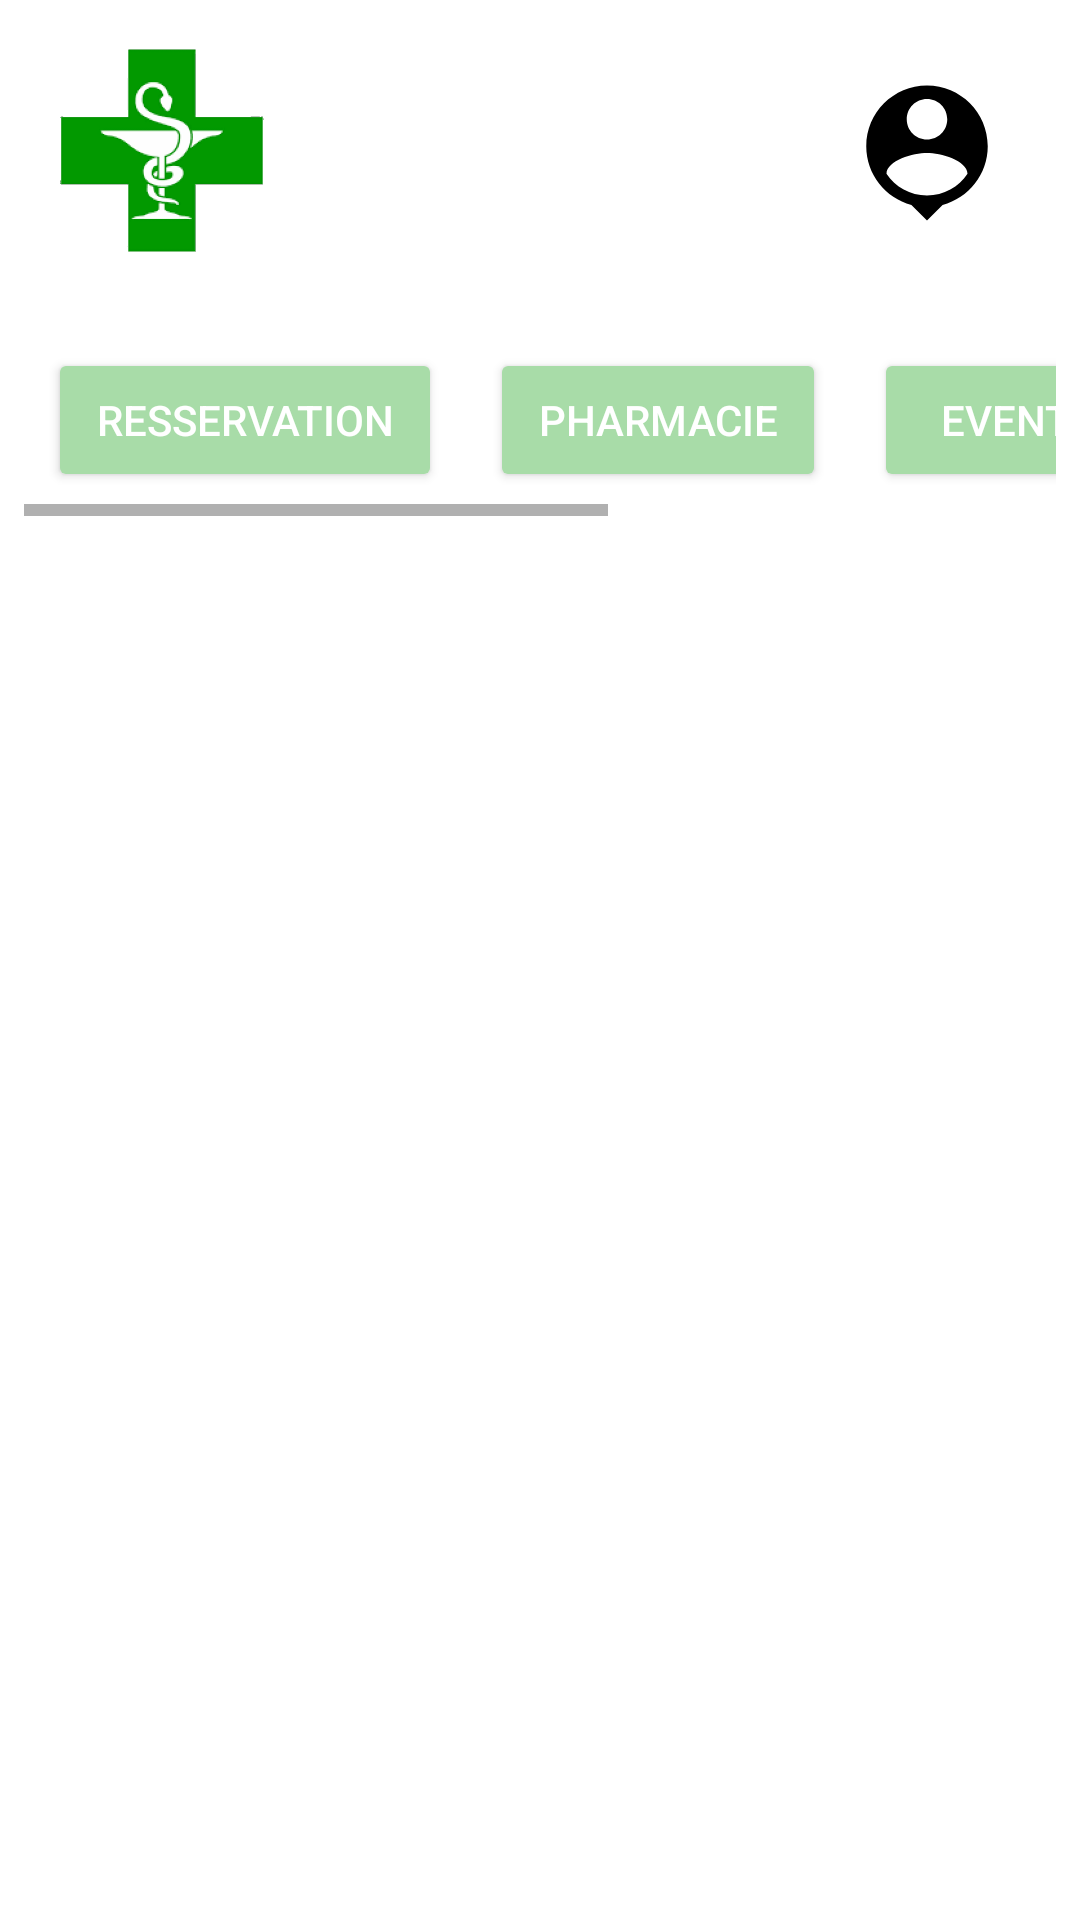

Icon click points for this 1080*1920 phone screenshot, format (x=x, y=y):
profile: (x=927, y=153)
